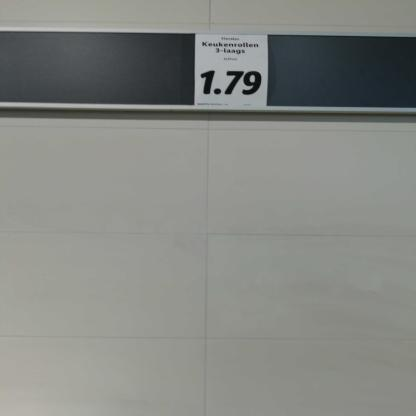prtg: (196, 35, 269, 107)
